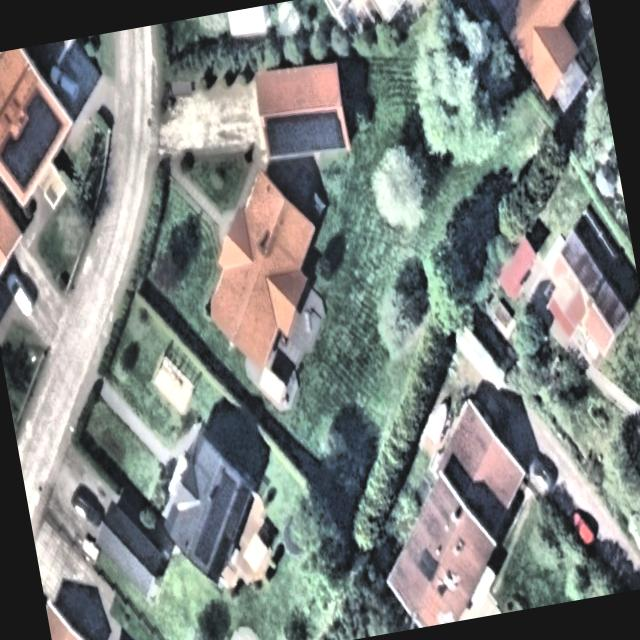roof_pv: (0, 82, 74, 195), (260, 104, 352, 164)
